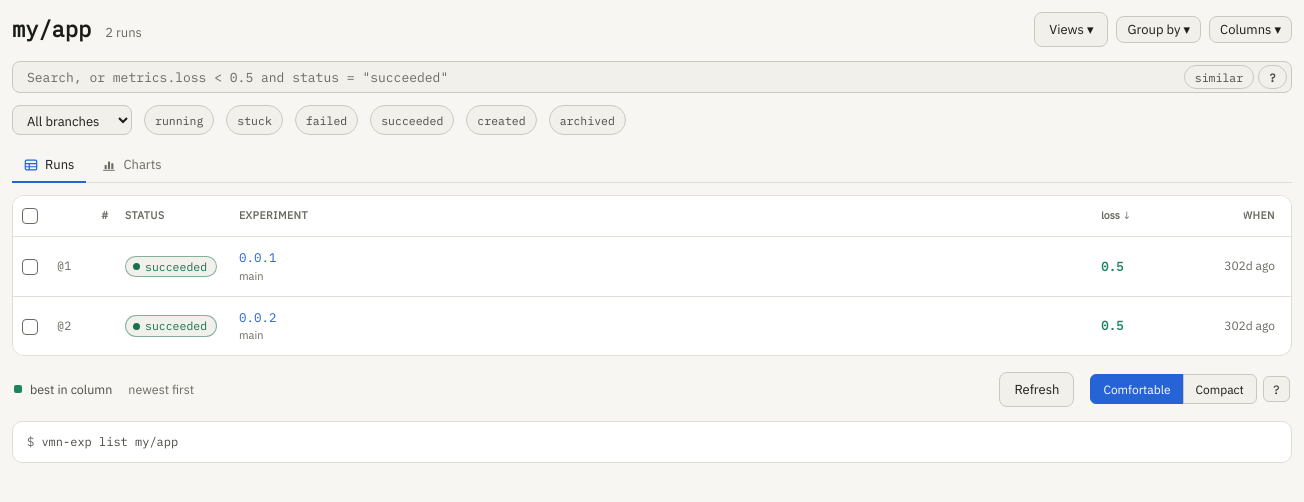
Test: Leaderboard query box › clears the error once the query parses
Check: the link "0.0.1" is shown, box [239,248,276,267]
Type "bad" into the field with placeholder "Search, or metrics.loss < 0.5 and status = \"succeeded\"" at point(600, 77), box [21,65,1180,89]
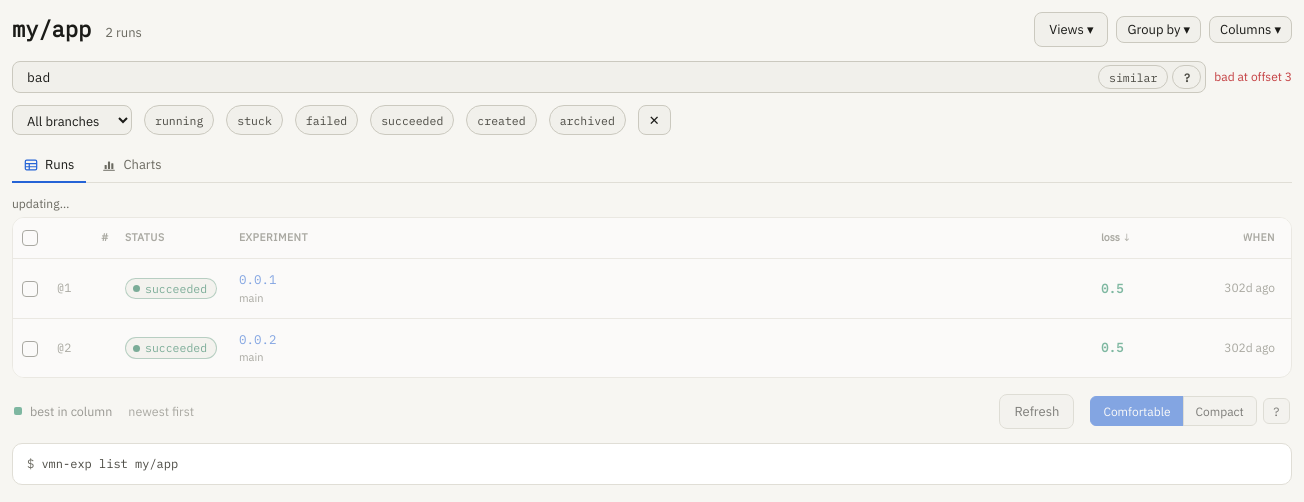
Check: the message "bad at offset 3" is shown, box [1214,68,1292,86]
Replace the text in the field with placeholder "Search, or metrics.loss < 0.5 and status = \"succeeded\"" with "metrics.loss < 0.5" at point(558, 77), box [21,65,1094,89]
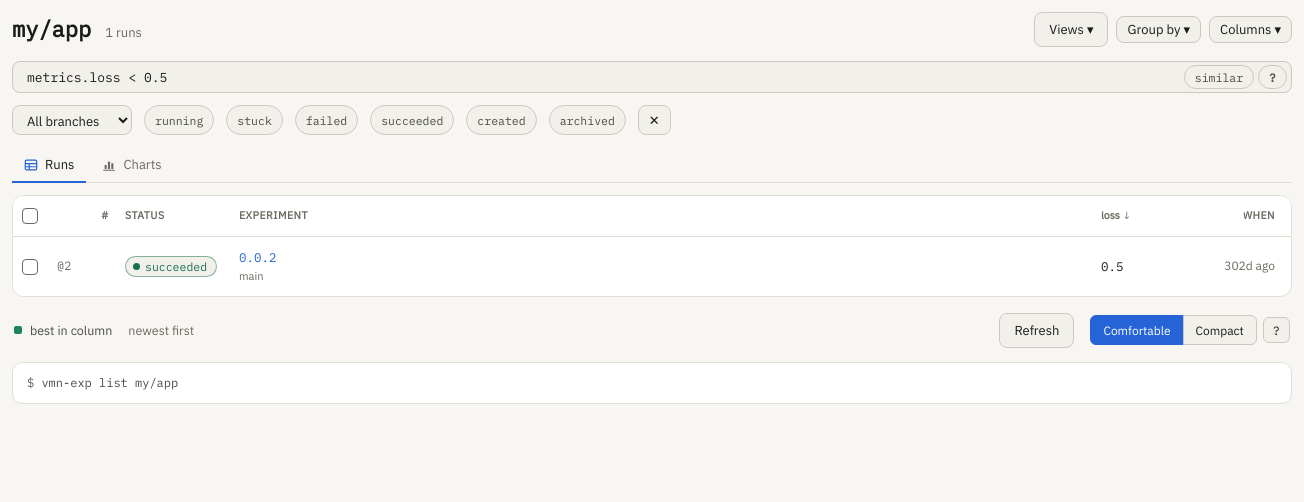
Check: the message "bad at offset 3" is gone
Check: the link "0.0.1" is gone
